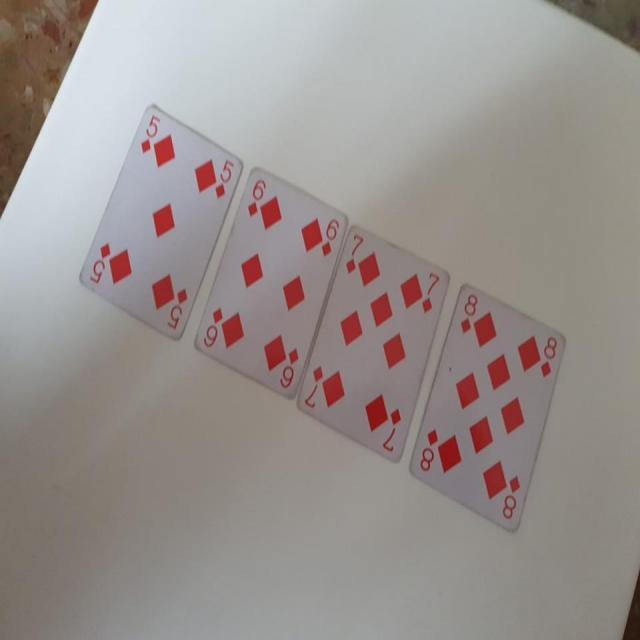5 of diamonds: (75, 98, 246, 349)
6 of diamonds: (194, 166, 350, 401)
7 of diamonds: (294, 224, 450, 467)
8 of diamonds: (408, 282, 566, 536)
